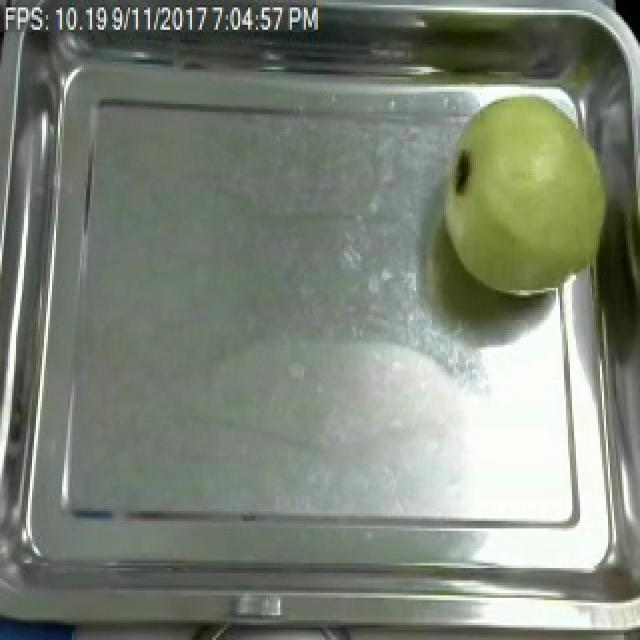Fruit: (426, 77, 626, 307)
